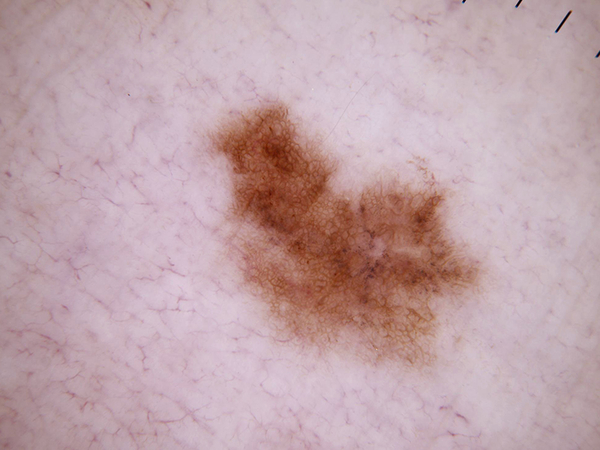Detected Lesion: (204, 99, 486, 377)
